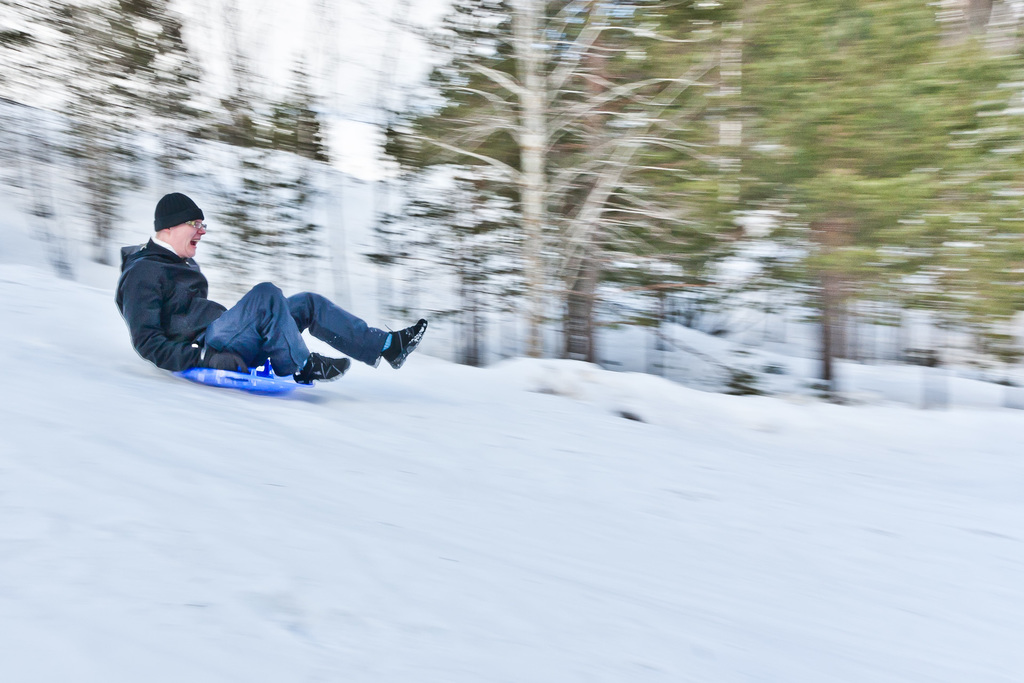person: (115, 192, 426, 386)
